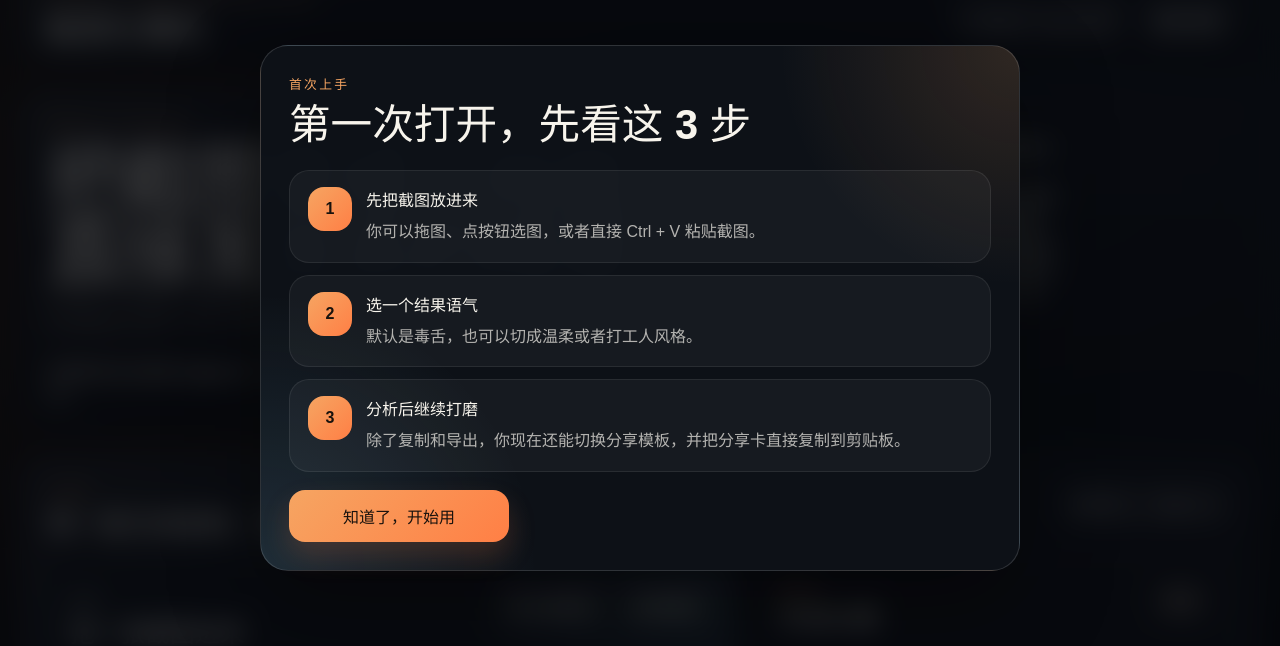
Test: App › supports starring a history entry and filtering to favorites only
Click the button "知道了，开始用": (399, 516) [289,490,509,542]
(page scrolled)
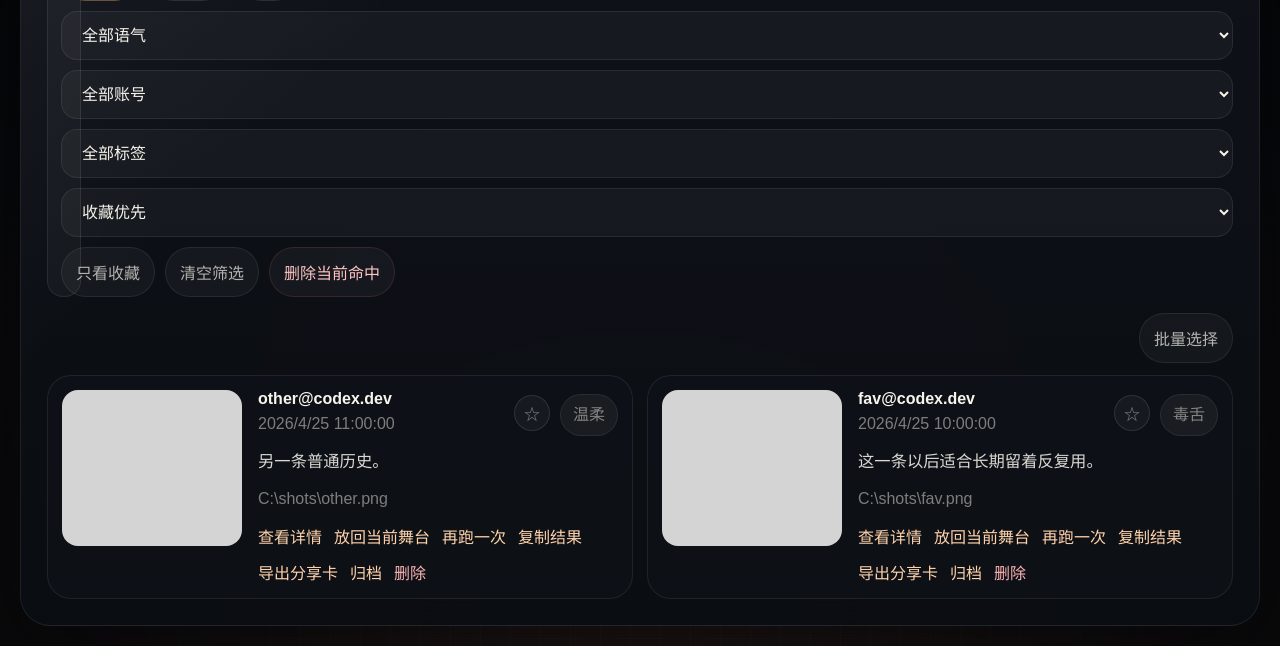
Expected: the heading "第一次打开" is gone
Click the button named "收藏这条历史": (1132, 413) [1114,395,1150,431]
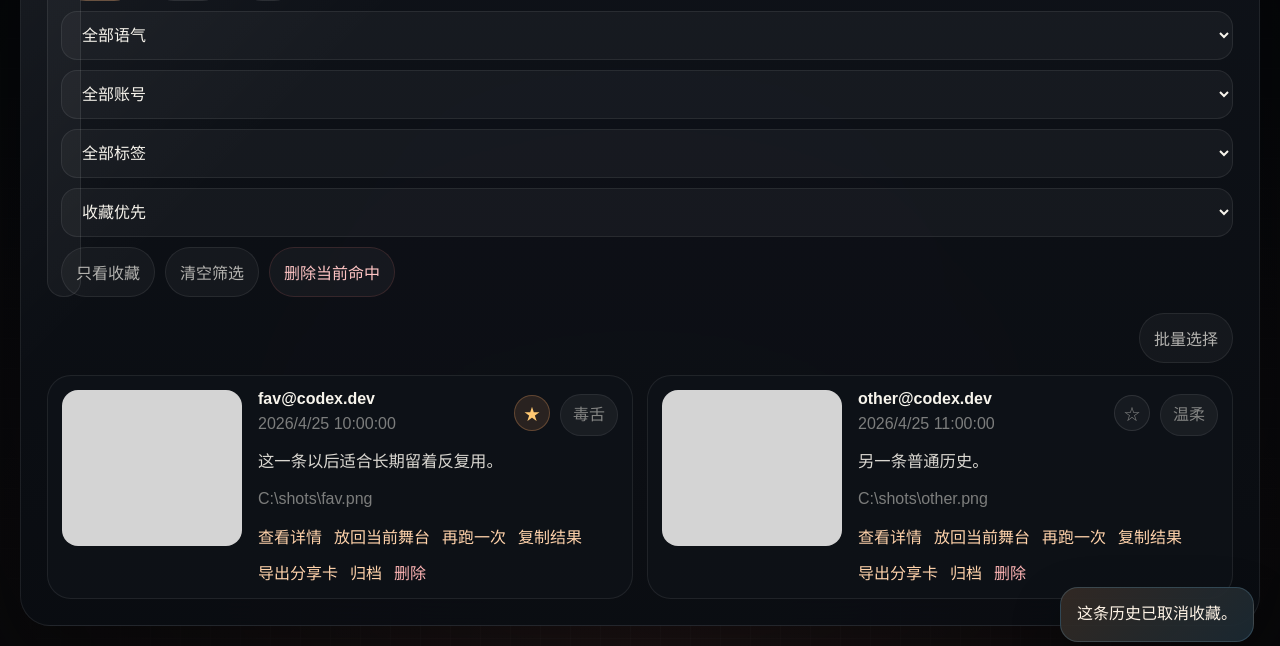
Expected: the button named "取消收藏这条历史" is shown, [514,395,550,431]
Click the button "只看收藏": (108, 272) [61,246,155,296]
(page scrolled)
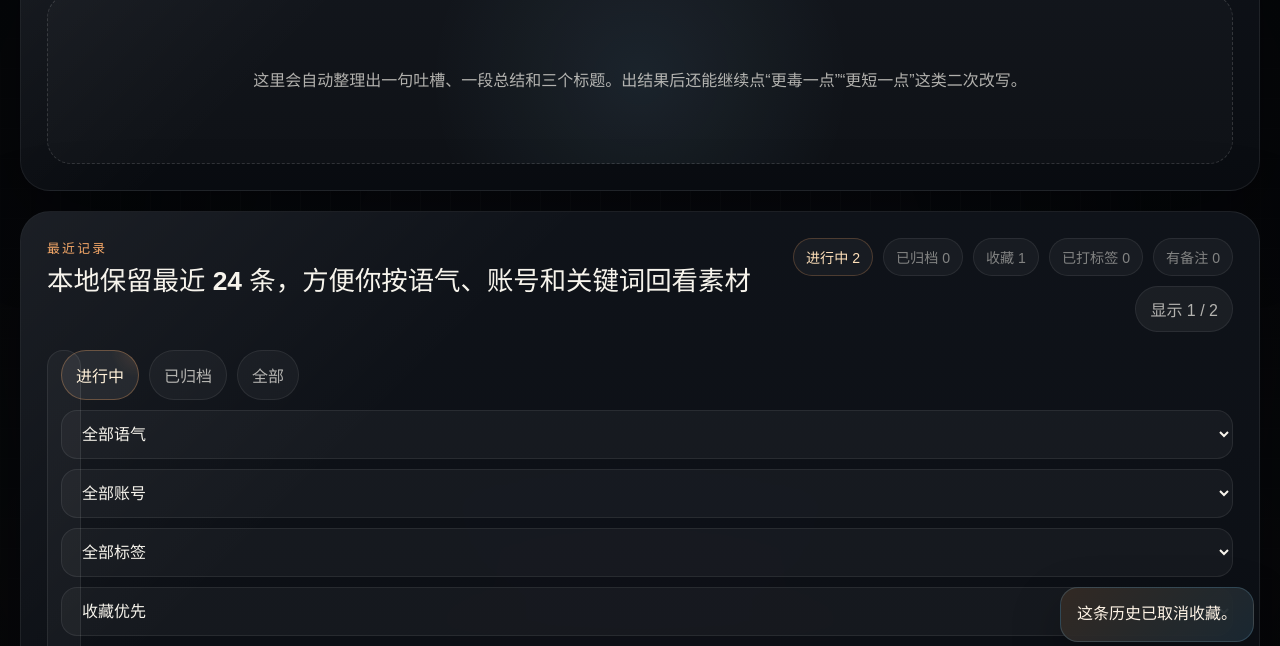
Expected: the text "另一条普通历史。" is gone
Expected: the text "显示 1 / 2" is shown, [1135,286,1233,332]
